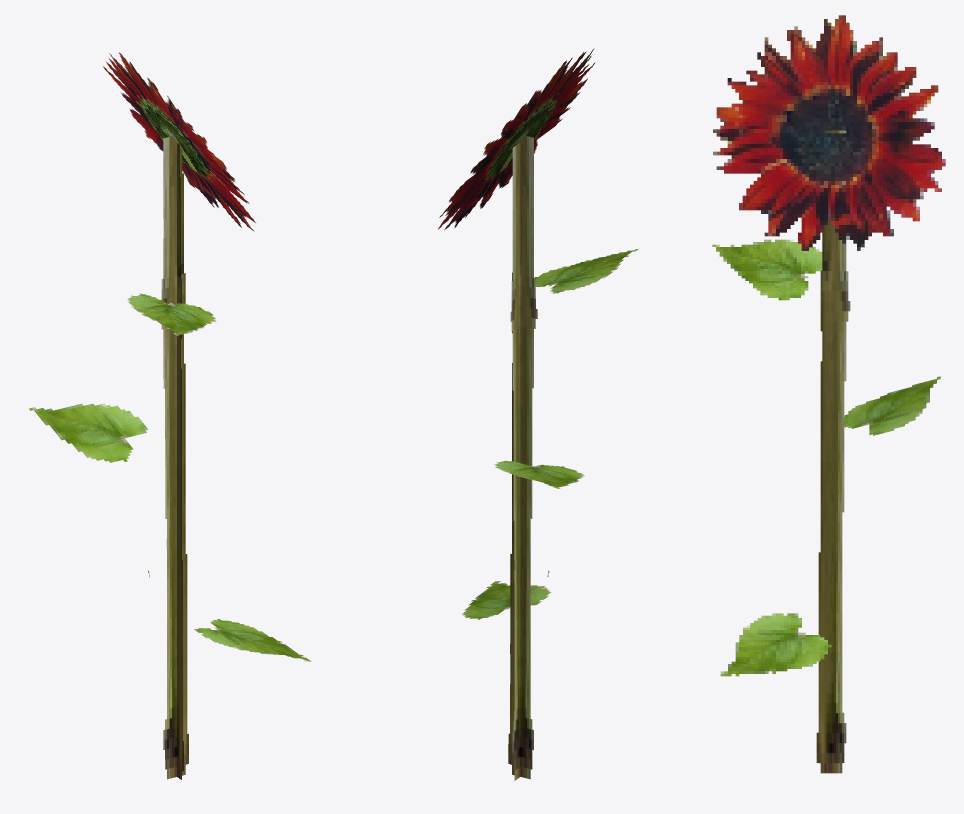
Rendered from redsun.gltf.
3 views of the same model, side by side, from view 1: azimuth 30°, elevation 25°; view 2: azimuth 150°, elevation 25°; view 3: azimuth 270°, elevation 25° (orthographic).
Parts seen in each view (by area): view 1: stalkb, face, leaf2, stalkf, leaf1, leaf3, face.001; view 2: stalkb, stalkf, face, leaf3, leaf1, face.001, leaf2; view 3: face, stalkf, leaf1, leaf3, leaf2.
Boxes of the visible parts, bbox=[...] form: stalkb: bbox=[148, 136, 188, 779]; face: bbox=[103, 52, 255, 231]; leaf2: bbox=[29, 403, 148, 462]; stalkf: bbox=[177, 143, 183, 779]; leaf1: bbox=[194, 619, 311, 661]; leaf3: bbox=[127, 293, 216, 335]; face.001: bbox=[136, 95, 209, 178]; stalkb: bbox=[508, 135, 549, 779]; stalkf: bbox=[510, 142, 520, 780]; face: bbox=[438, 48, 595, 229]; leaf3: bbox=[534, 249, 638, 293]; leaf1: bbox=[462, 581, 550, 619]; face.001: bbox=[485, 93, 559, 179]; leaf2: bbox=[494, 460, 584, 488]; face: bbox=[713, 15, 945, 250]; stalkf: bbox=[816, 130, 850, 773]; leaf1: bbox=[720, 613, 831, 676]; leaf3: bbox=[712, 239, 822, 300]; leaf2: bbox=[844, 376, 940, 435].
Size of the model in its own units: 0.5002 by 1.71 by 0.5024.
Materials: 7 (7 with a texture image).
